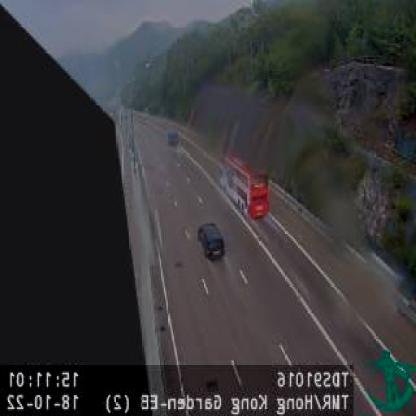Bus: (225, 152, 267, 221)
Car: (197, 222, 227, 262)
